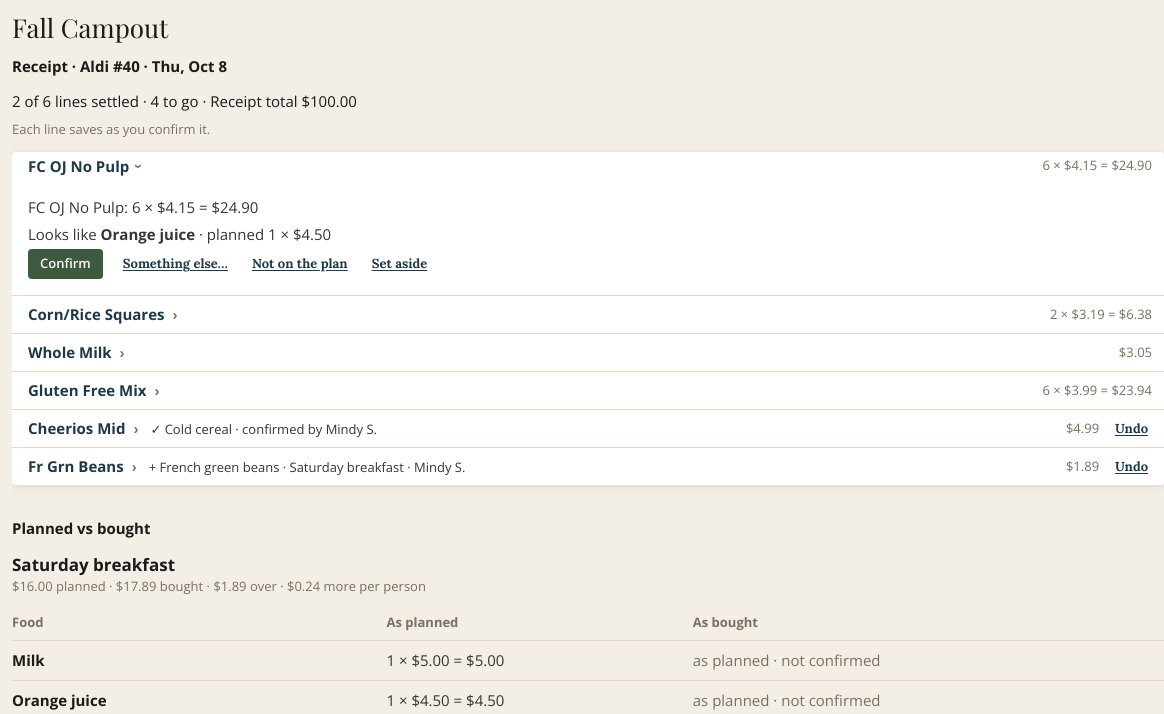
Scenario: Receipt — the lines, one at a time › AnUnidentifiedLine_OpensOnTheFoodPicker_WithNoConfirm
Click the button "Gluten Free Mix ›".
click(94, 391)  # box [28, 379, 160, 402]
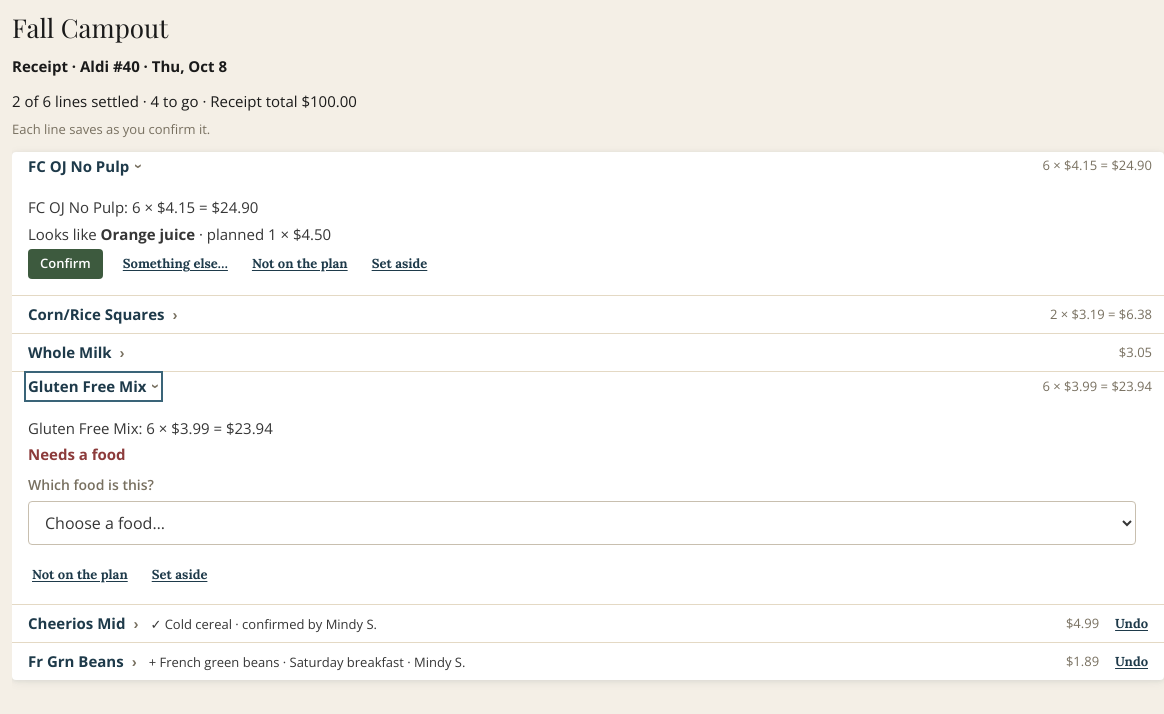
Expected: the text "Needs a food" is shown, [28, 444, 126, 464]
Expected: the dropdown labelled "Which food is this?" is shown, [28, 501, 1136, 545]
